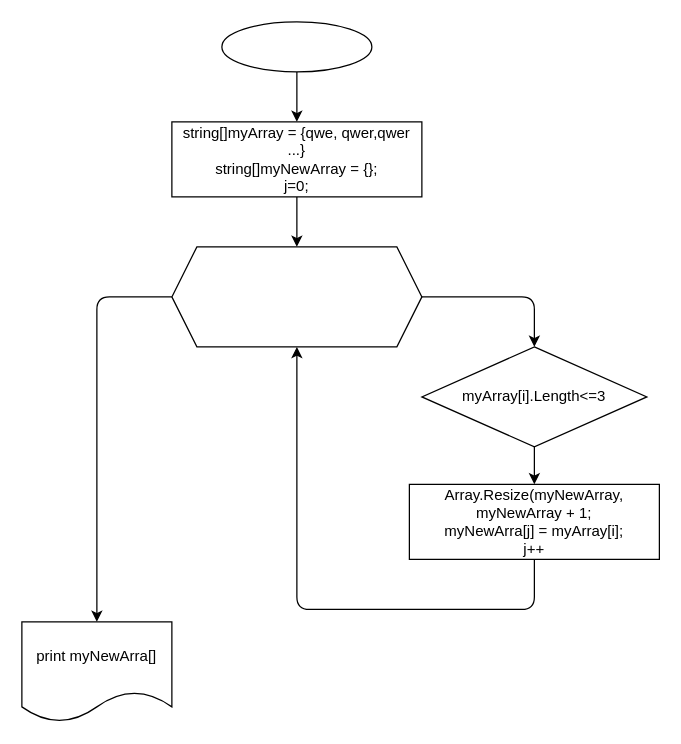
This 681x744 diagram has some shape labels left out. Each missing label, with the box of its shape:
for(int i = 0; i < myArray.Lenght; i++: (171, 246, 422, 347)
start: (221, 21, 372, 72)
